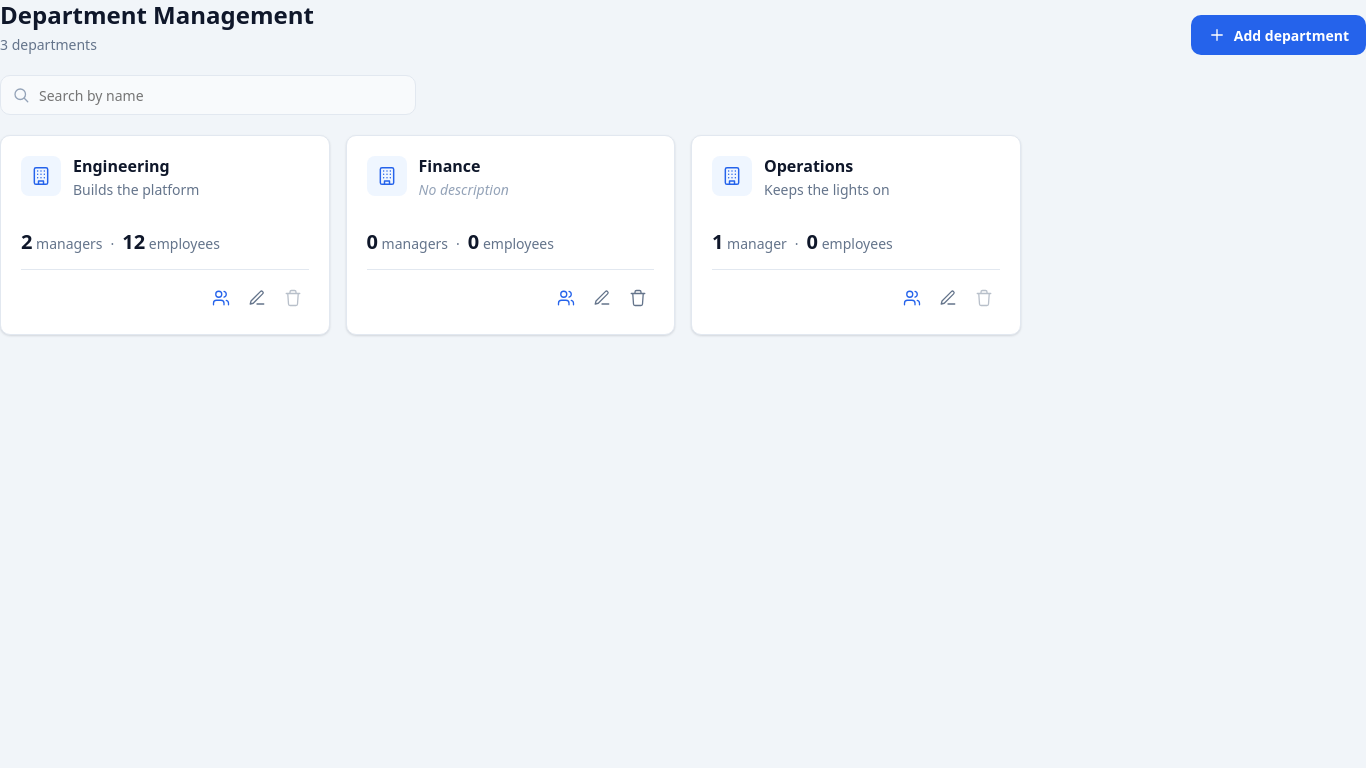
Test: DepartmentListComponent › opens the members dialog from a card and reloads the list when it saves
The width and height of the screenshot is (1366, 768).
Click the button named "Manage members of Engineering".
click(220, 298)  # box [204,282,236,314]
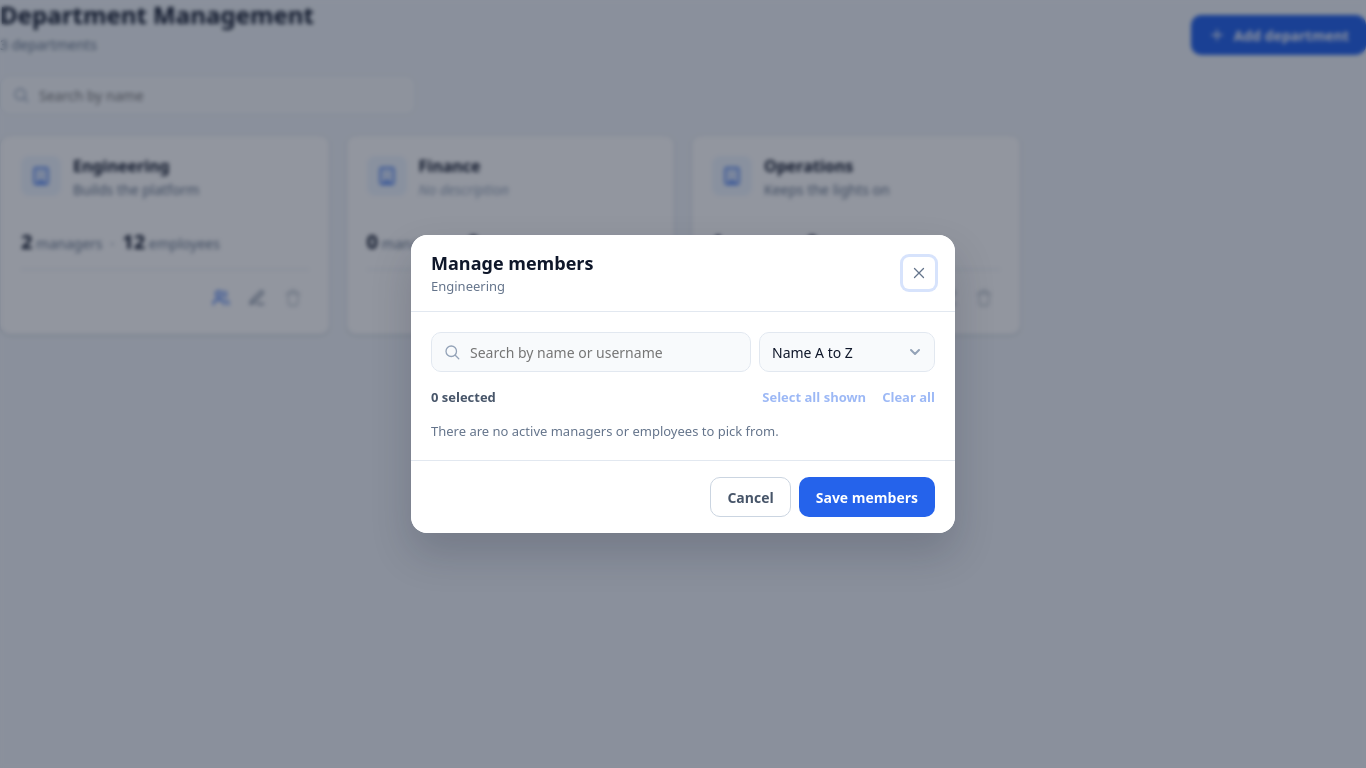
Expected: the dialog shows "Manage members", [431,251,593,275]
